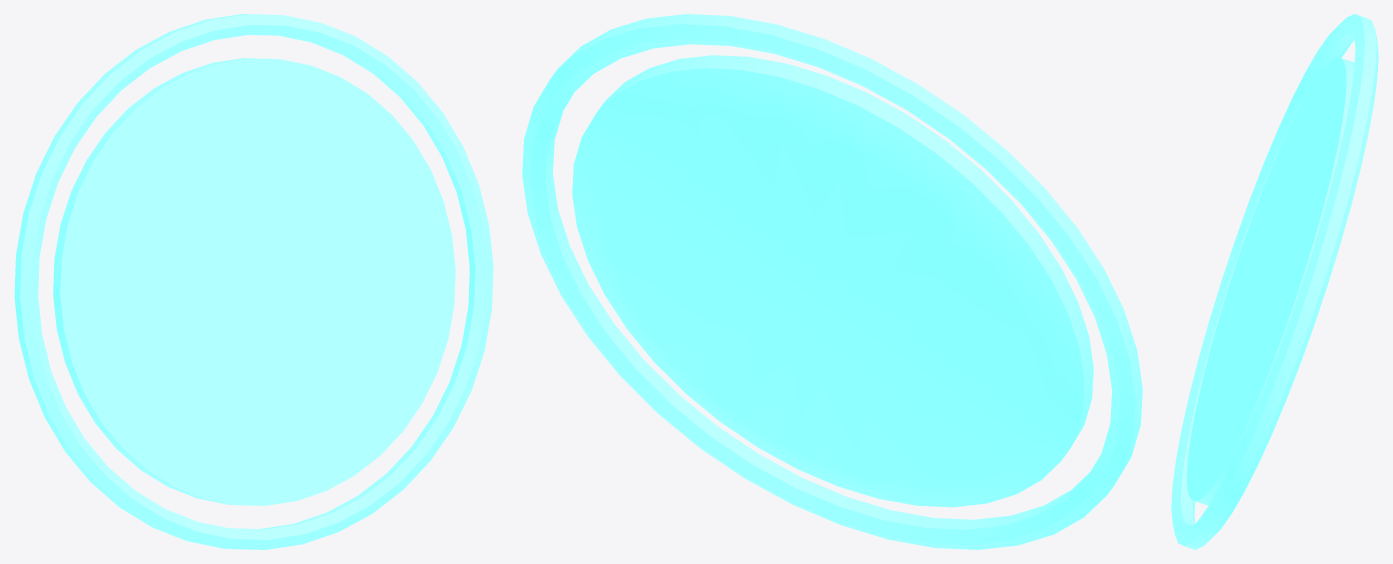
Rendered from EV_CannonGlow.fbx.
3 renders of one model, left to right at view 1: azimuth 30°, elevation 25°; view 2: azimuth 150°, elevation 25°; view 3: azimuth 270°, elevation 25°, orthographic. The views are drawn at different scales.
Visible parts, largest first — view 1: EV_CannonGlow; view 2: EV_CannonGlow; view 3: EV_CannonGlow.
Boxes of the visible parts, left/top/right/bottom form: EV_CannonGlow: left=14, top=14, right=493, bottom=549; EV_CannonGlow: left=522, top=14, right=1142, bottom=549; EV_CannonGlow: left=1171, top=14, right=1378, bottom=549.
Size of the model in its own units: 1.58 by 1.5 by 0.5856.
